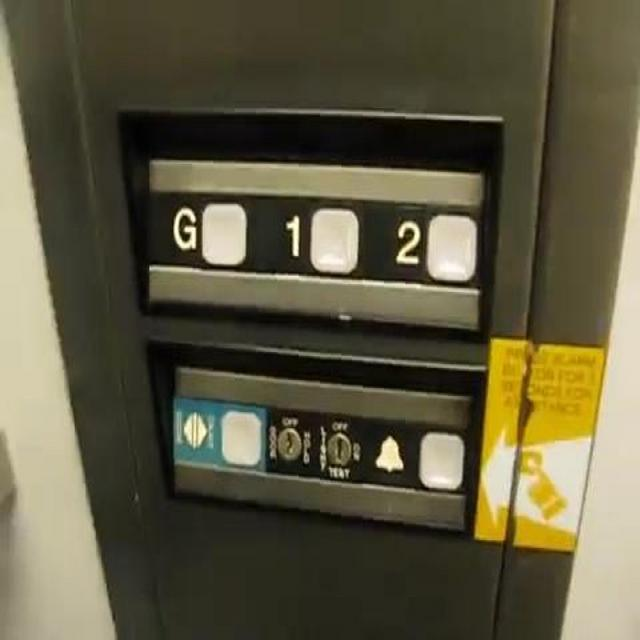1: (269, 191, 367, 281)
2: (383, 197, 485, 291)
G: (163, 185, 254, 275)
alarm: (368, 415, 471, 501)
keyhole: (276, 424, 302, 460), (327, 431, 349, 464)
open: (168, 393, 269, 475)
